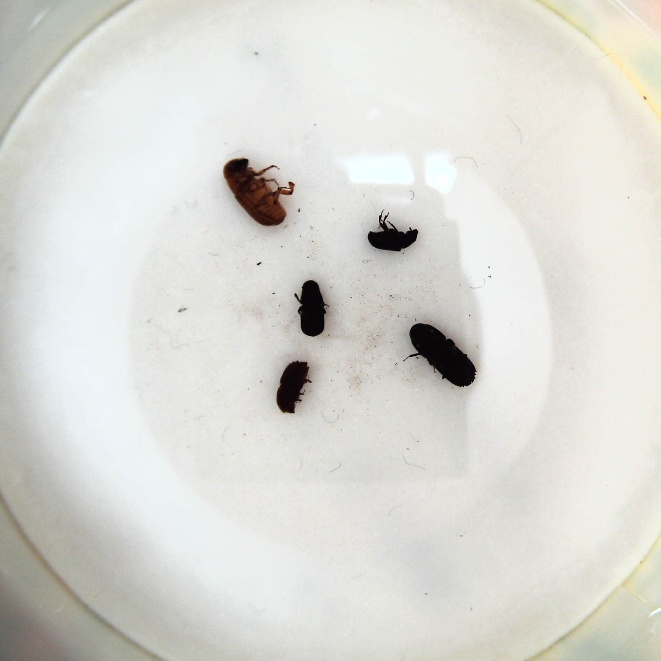armandi: (293, 279, 332, 339)
boerner: (405, 321, 477, 391)
coleoptera: (366, 210, 424, 255)
leconte: (221, 156, 299, 229)
linnaeus: (276, 360, 316, 415)
